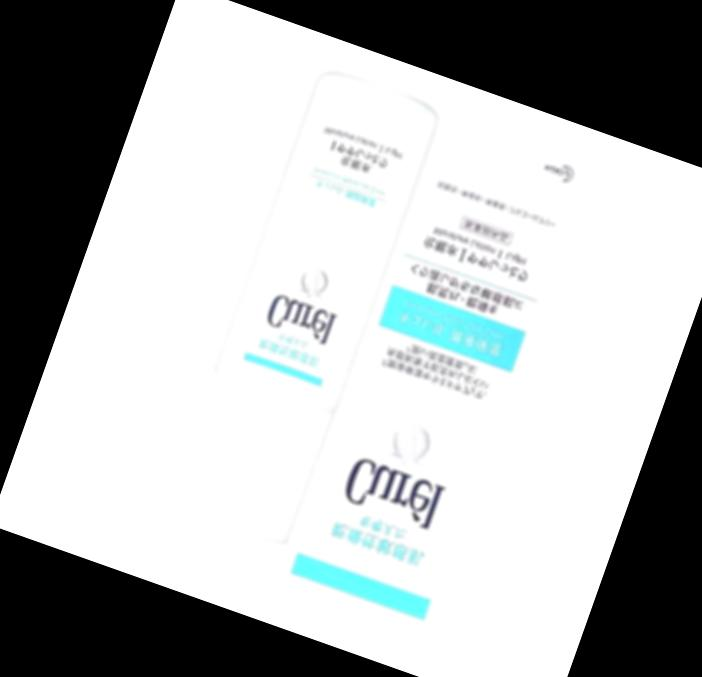cosmetic: (166, 76, 441, 547)
